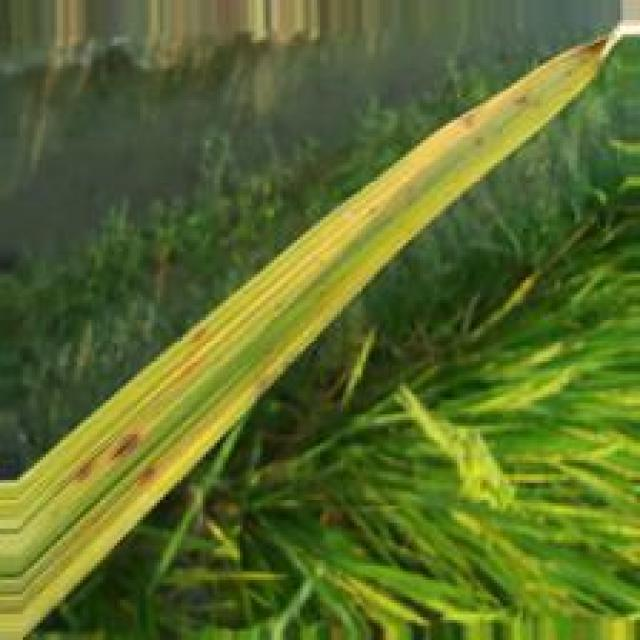Brown_Spot: (108, 427, 146, 469), (71, 454, 88, 488), (140, 457, 153, 492)
